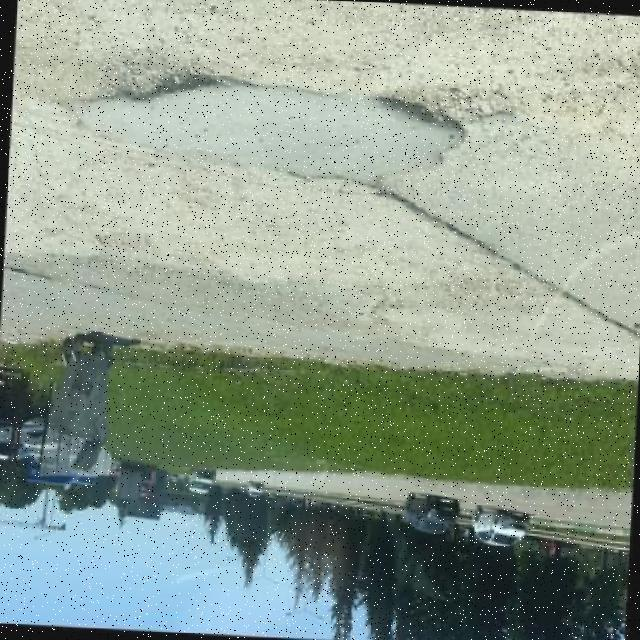Pothole: (69, 46, 216, 99), (365, 81, 519, 126)
